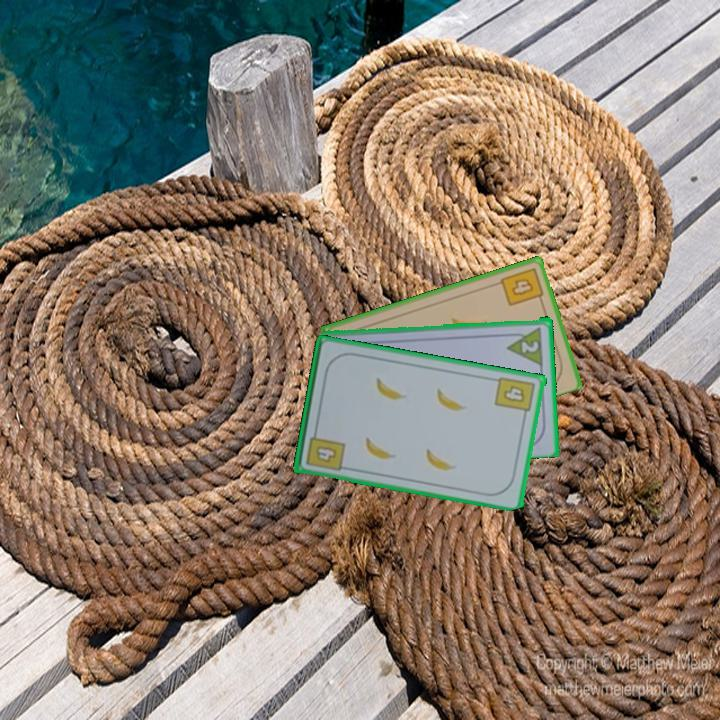2p: (504, 323, 546, 366)
4b: (302, 425, 348, 474), (492, 373, 538, 421), (497, 264, 546, 309)
